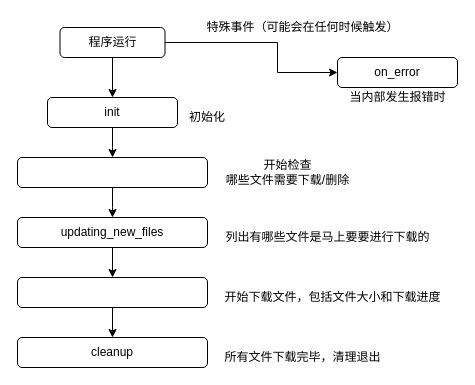
Some shapes in this 475 by 385 pixel diagram are drawn without their labels. The shapes that lost their labels are listed below. From the top down, each one's box as (x1, y1, x2, y2) in pixels, then its label:
(16, 156, 208, 188): check_for_update
(16, 276, 208, 308): updating_downloading
